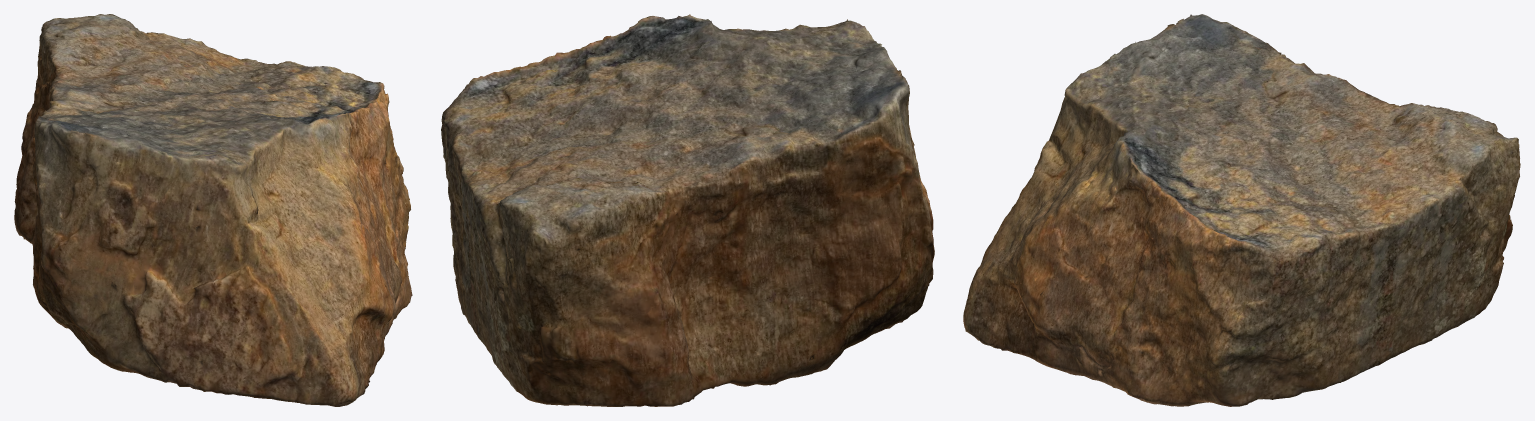
Rendered from namaqualand_boulder_03.glb.
3 renders of one model, left to right at view 1: azimuth 30°, elevation 25°; view 2: azimuth 150°, elevation 25°; view 3: azimuth 270°, elevation 25°, orthographic. The views are drawn at different scales.
Visible parts, largest first — view 1: boulder_03_LOD0; view 2: boulder_03_LOD0; view 3: boulder_03_LOD0.
Part boxes in pixels (x1=…): boulder_03_LOD0: x1=14, y1=14, x2=412, y2=406; boulder_03_LOD0: x1=441, y1=14, x2=934, y2=406; boulder_03_LOD0: x1=963, y1=14, x2=1520, y2=406.
Size of the model in its own units: 2.41 by 1.47 by 3.07.
Materials: 1 (1 with a texture image).
